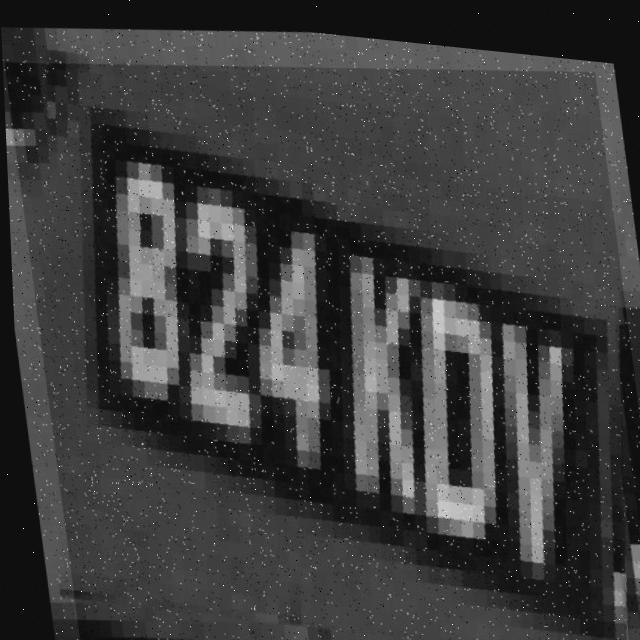LicensePlate: (1, 10, 640, 640)
